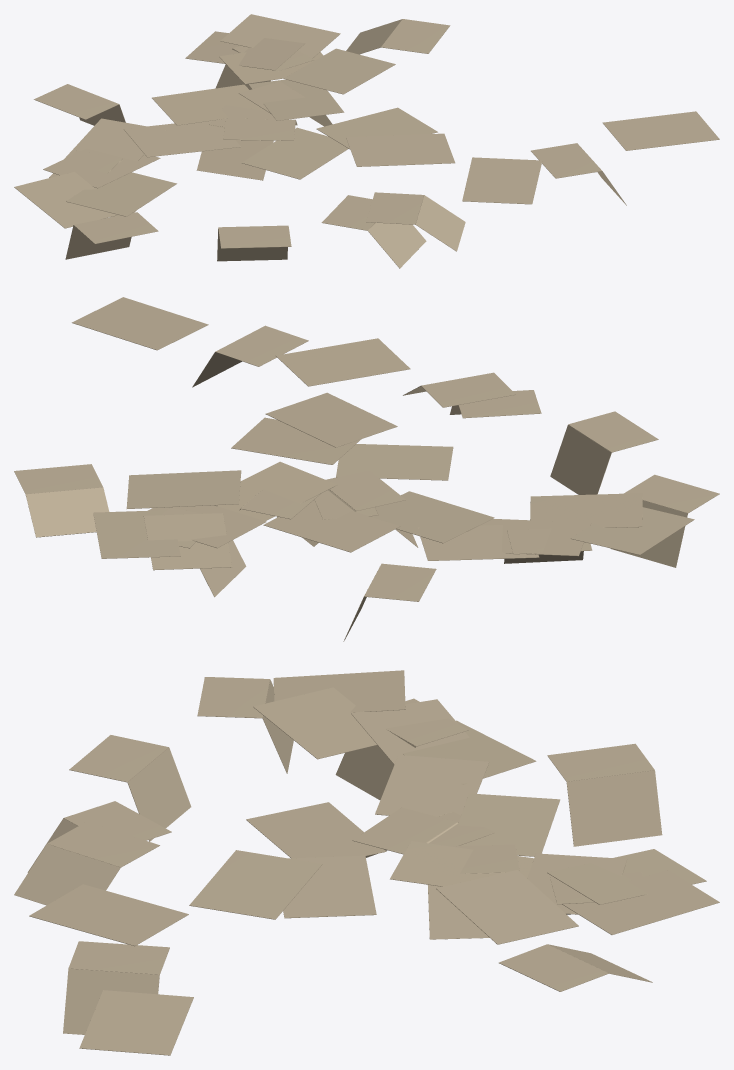
The model's file is paper-litter.glb.
The picture shows the model from 3 angles, top to bottom: view 1: azimuth 30°, elevation 25°; view 2: azimuth 150°, elevation 25°; view 3: azimuth 270°, elevation 25°; orthographic projection. The views are drawn at different scales.
Parts seen in each view (by area): view 1: paper-litter; view 2: paper-litter; view 3: paper-litter.
Boxes of the visible parts, x1,y1,x2,y2 form: paper-litter: (14,14,719,268); paper-litter: (14,297,719,641); paper-litter: (14,670,719,1055).
Bounding box in the file's own units: 2.04 × 0.151 × 1.6.
